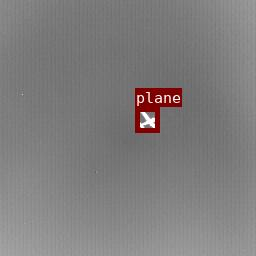plane: (135, 107, 159, 132)
